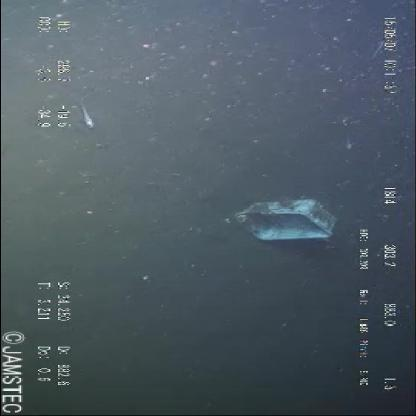Rác: (224, 194, 349, 244)
